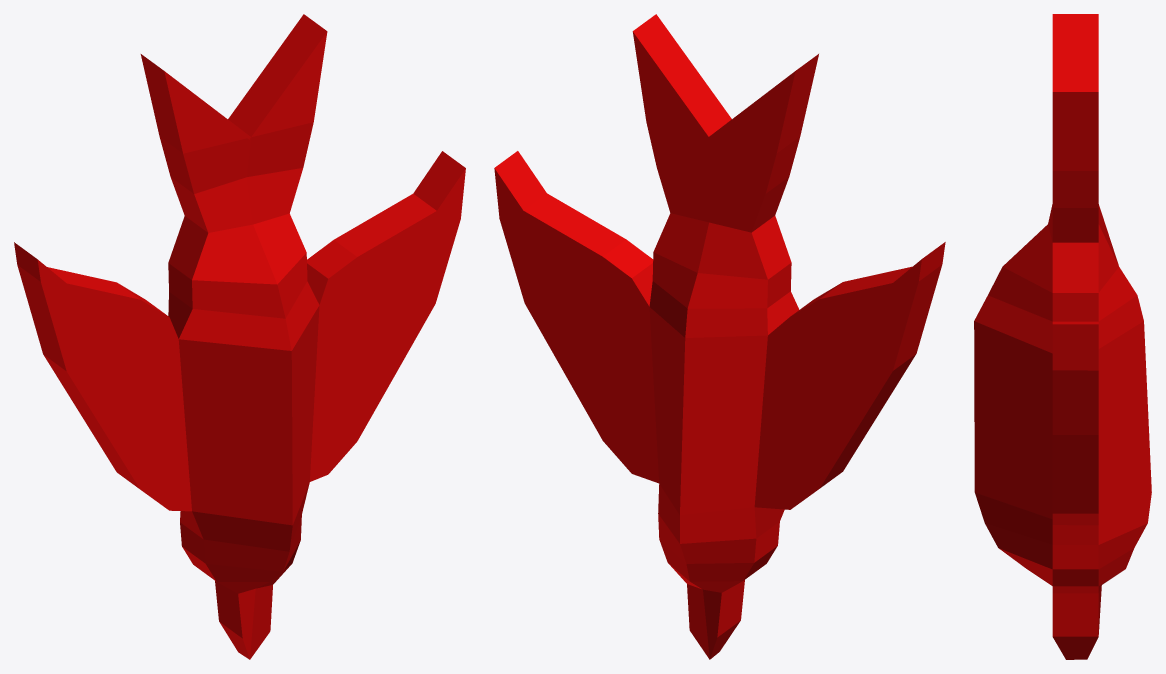
Rendered from BirdEnemy.fbx.
3 renders of one model, left to right at view 1: azimuth 30°, elevation 25°; view 2: azimuth 150°, elevation 25°; view 3: azimuth 270°, elevation 25°, orthographic. The views are drawn at different scales.
Visible parts, largest first — view 1: pPlane1; view 2: pPlane1; view 3: pPlane1.
Boxes of the visible parts, left/top/right/bottom form: pPlane1: left=14, top=14, right=465, bottom=659; pPlane1: left=494, top=14, right=945, bottom=659; pPlane1: left=974, top=14, right=1151, bottom=659.
Bounding box in the file's own units: 10.45 × 14.38 × 3.85.
